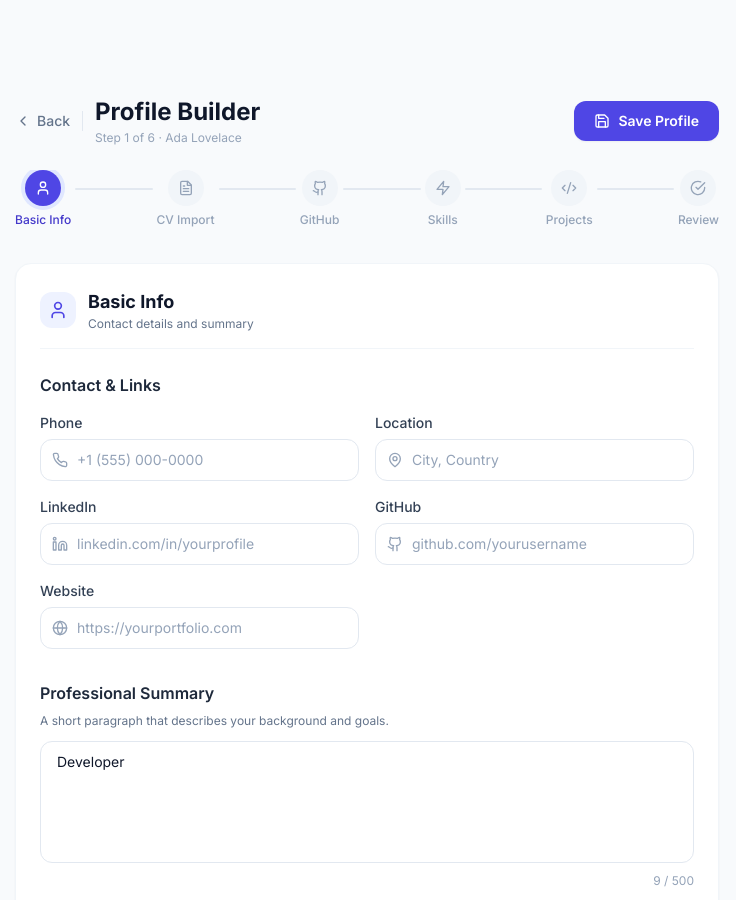
ProfileBuilderPage — server validation errors › editing the section clears its errors
The width and height of the screenshot is (736, 900).
Click the button "Save Profile": (647, 121) [574, 101, 719, 141]
(page scrolled)
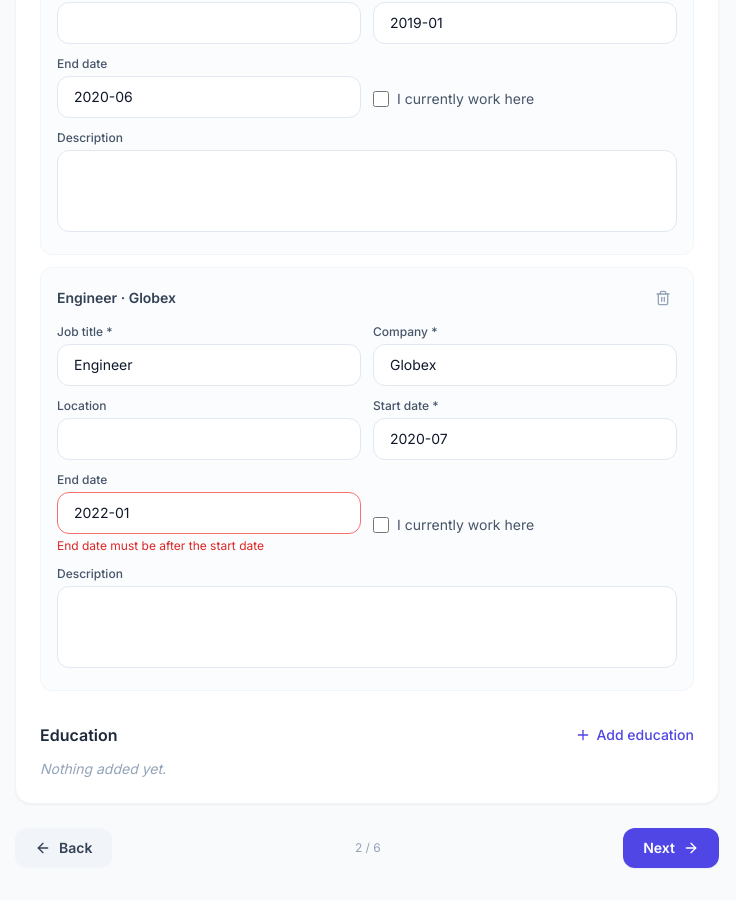
In the field labelled "End date" below "Engineer · Globex": (209, 513) [57, 492, 361, 534], type "1"
(page scrolled)
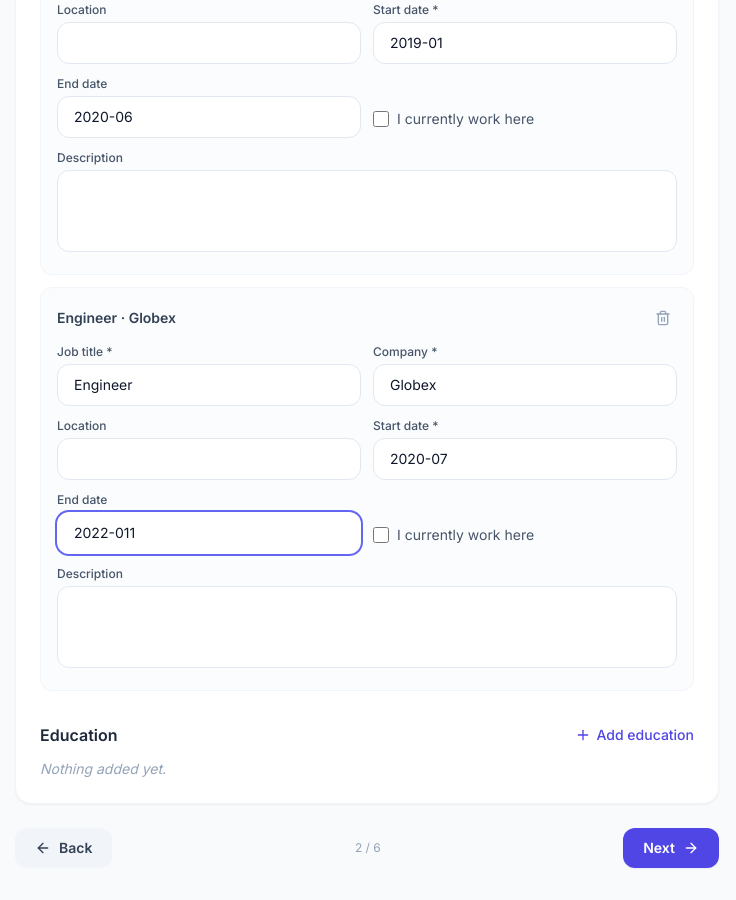
Check: the message "End date must be after the start date" is gone
